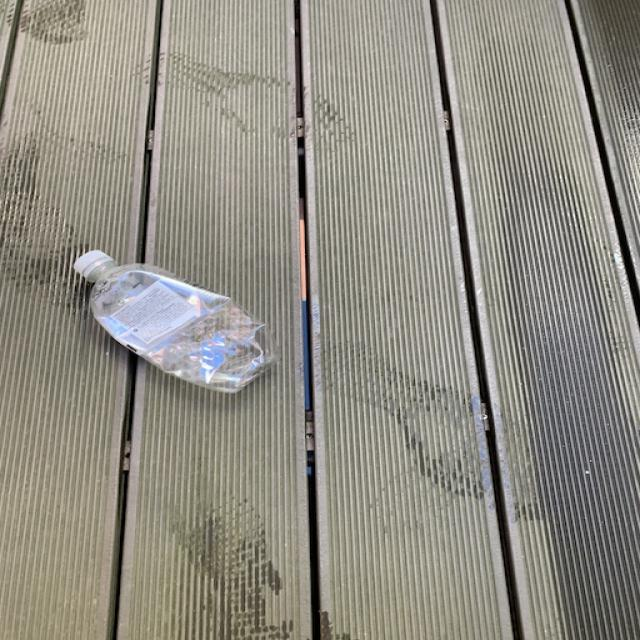Waste: (74, 251, 278, 393)
